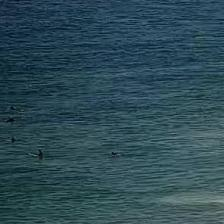surfer: (4, 116, 16, 123), (9, 105, 20, 111), (36, 149, 44, 157), (10, 136, 15, 143), (110, 152, 117, 155)
